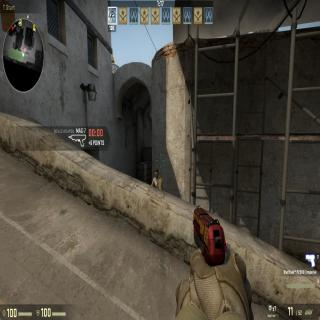T-Body: (150, 168, 163, 192)
T-Head: (153, 168, 159, 181)
